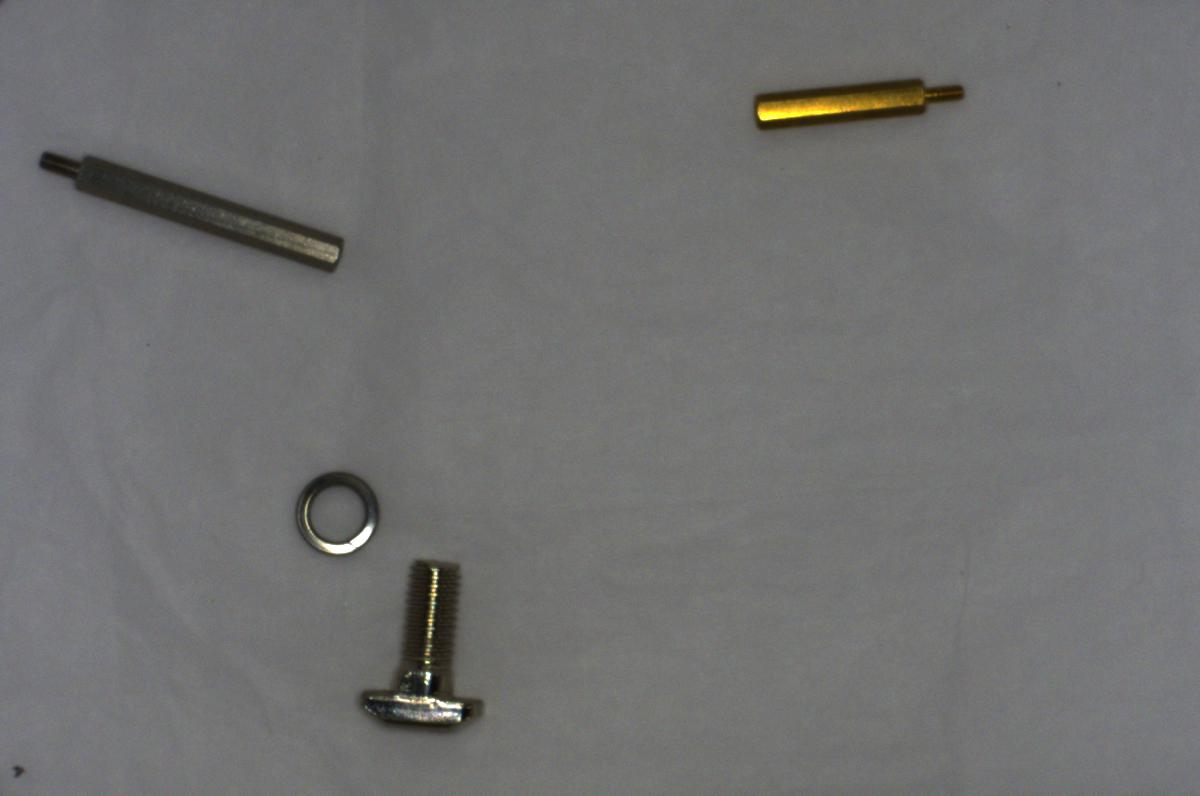Hexagon pillar: (742, 68, 973, 134)
Hexagonal steel column: (26, 141, 355, 278)
Spring washer: (292, 466, 384, 563)
T-shaped screw: (348, 549, 485, 738)
